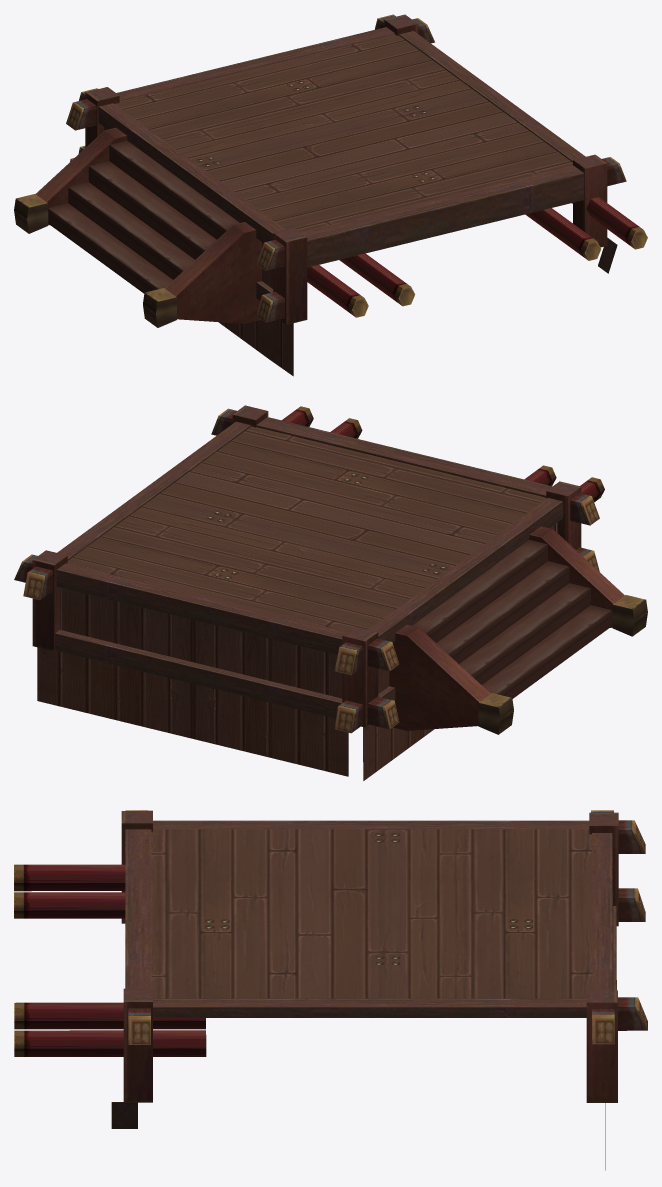
The picture shows the model from 3 angles, top to bottom: view 1: azimuth 30°, elevation 25°; view 2: azimuth 150°, elevation 25°; view 3: azimuth 270°, elevation 25°; orthographic projection. The views are drawn at different scales.
Visible parts, largest first — view 1: polySurface651; view 2: polySurface651; view 3: polySurface651.
Part boxes in pixels (bbox=[...]): polySurface651: bbox=[14, 14, 647, 376]; polySurface651: bbox=[14, 405, 647, 780]; polySurface651: bbox=[14, 810, 647, 1170].
Bounding box in the file's own units: 42.03 × 12.7 × 43.02.
